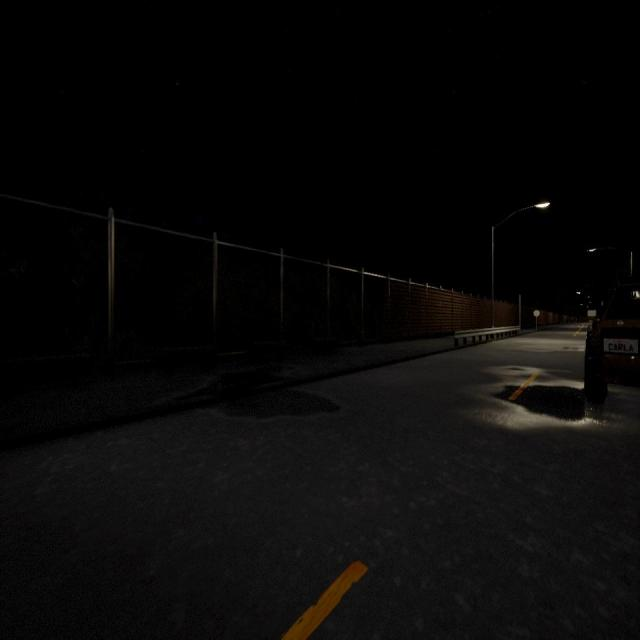Traffic_Signs: (534, 310, 540, 317)
Vehicle: (584, 283, 640, 403)
